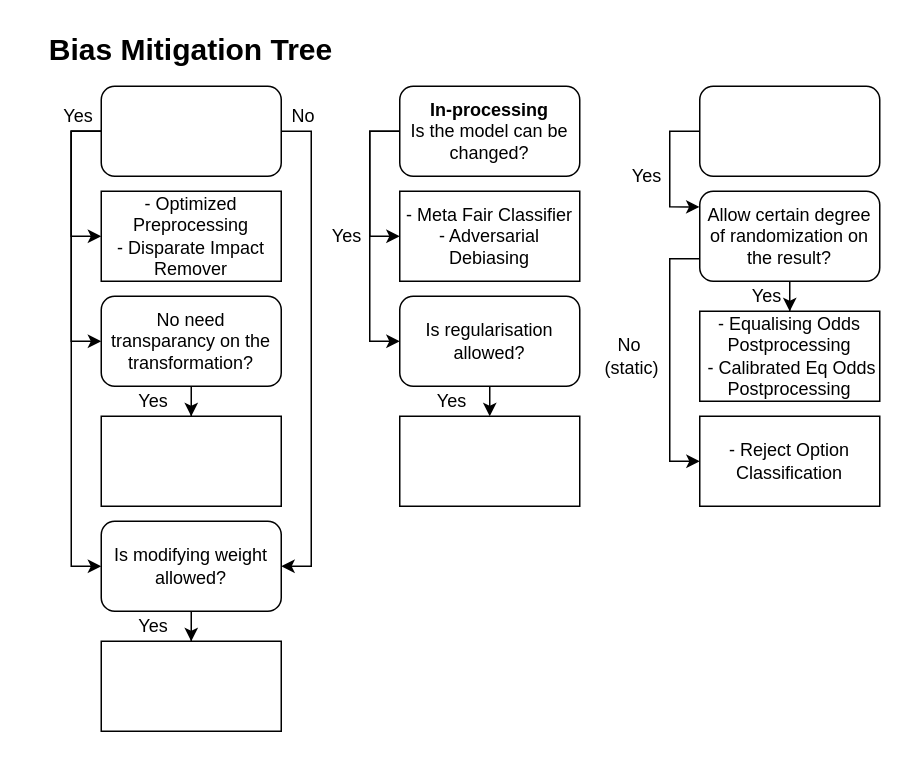
Some shapes in this 906 by 758 pixel diagram are drawn without their labels. Each missing label, with the centre of its shape:
"- Learning fair representation" goes at point 190,460.
"- Prejudice Remover" goes at point 489,460.
"- Reweighing" goes at point 190,685.
"Post-processing Is the result can be changed?" goes at point 789,130.
"Pre-processing Is the dataset can be changed?" goes at point 190,130.
